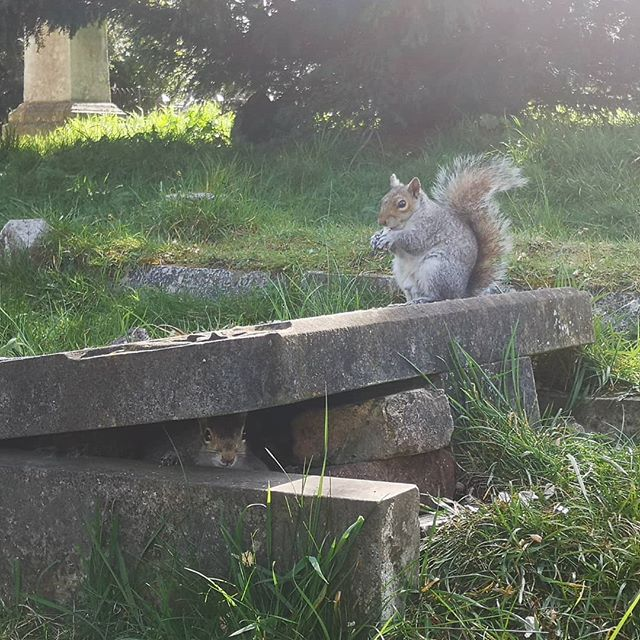animal: (378, 166, 525, 309), (145, 410, 299, 476)
vegetation: (1, 1, 591, 165)
